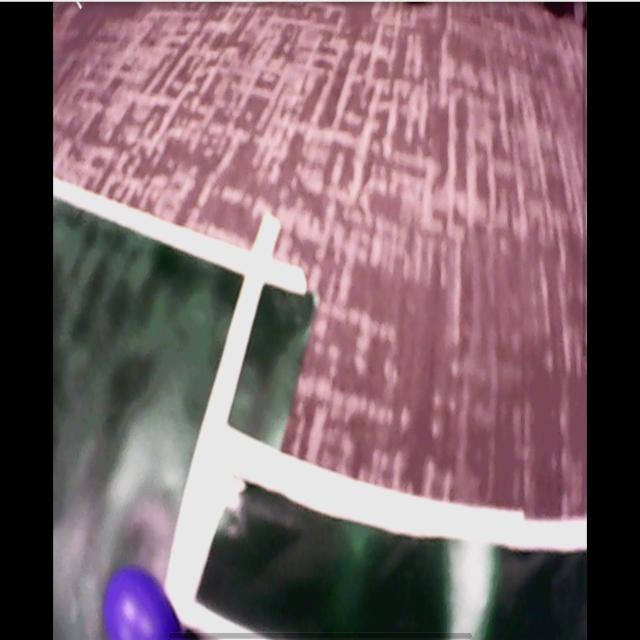ball: (103, 570, 180, 640)
